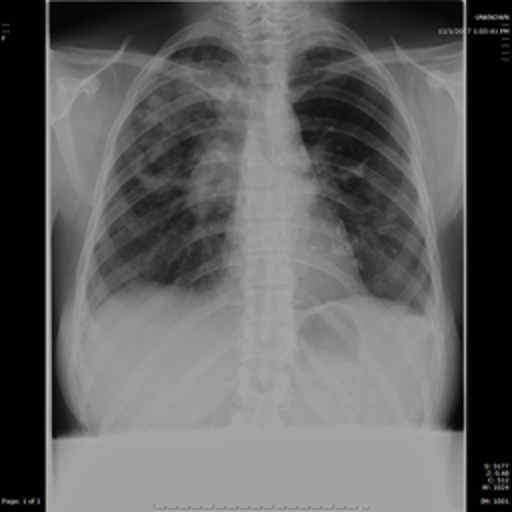TB: (124, 62, 241, 208)
